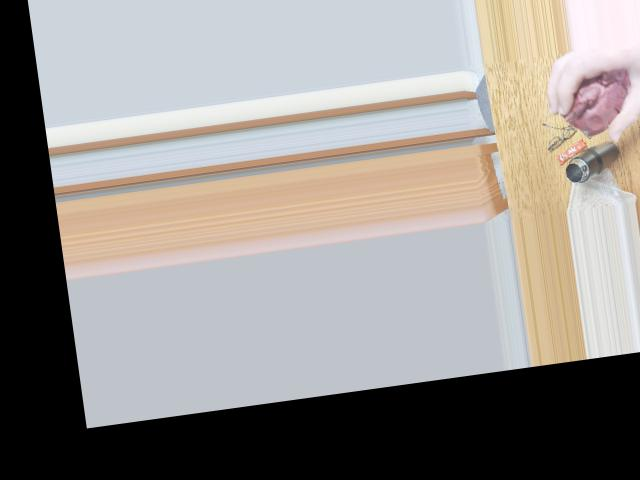onion: (565, 69, 635, 123)
